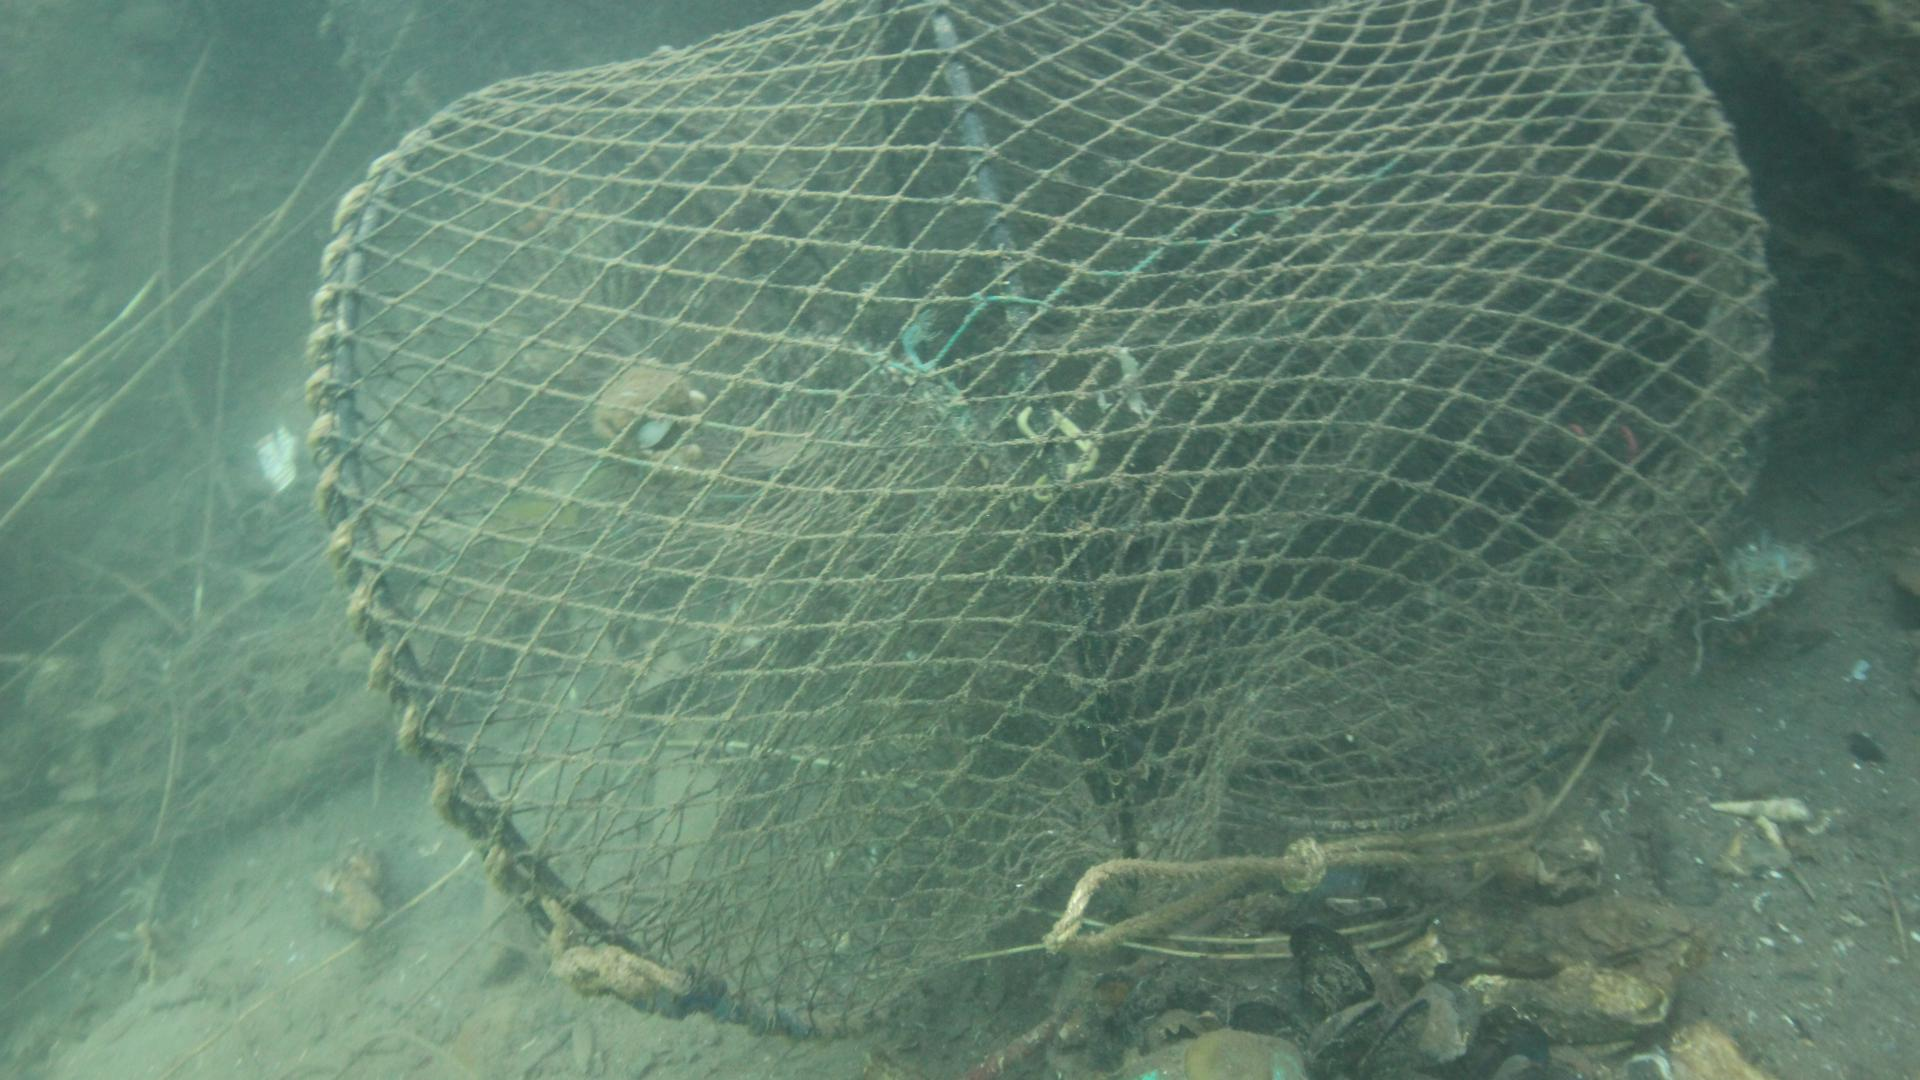spring fish trap: (299, 0, 1774, 1040)
